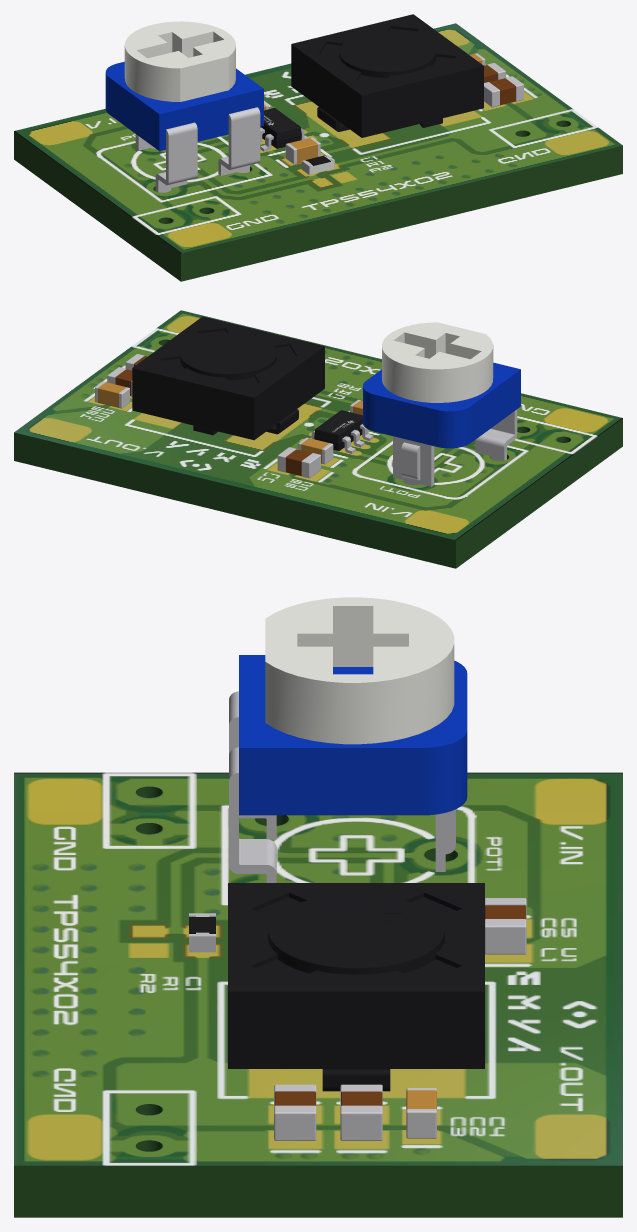
Rendered from eml01-no-headers.glb.
3 renders of one model, top to bottom at view 1: azimuth 30°, elevation 25°; view 2: azimuth 150°, elevation 25°; view 3: azimuth 270°, elevation 25°, orthographic. The views are drawn at different scales.
Visible parts, largest first — view 1: Board:Open CASCADE STEP translator 7.5 3.1.1, POT1: (×4), L1:Cooper Bussman DR73 Series Inductor, U1:body, C1:Open CASCADE STEP translator 6.8 3.2.1, C3:; view 2: Board:Open CASCADE STEP translator 7.5 3.1.1, POT1: (×4), L1:Cooper Bussman DR73 Series Inductor, U1:body, C5: (×2), C4:Open CASCADE STEP translator 6.8 3.2.1; view 3: Board:Open CASCADE STEP translator 7.5 3.1.1, POT1: (×5), L1:Cooper Bussman DR73 Series Inductor, C3:, C2:, C5:, C4:Open CASCADE STEP translator 6.8 3.1.1.
Boxes of the visible parts, x1,y1,x2,y2 form: Board:Open CASCADE STEP translator 7.5 3.1.1: (14,23,622,281); POT1: (×4): (105,21,263,192); L1:Cooper Bussman DR73 Series Inductor: (291,14,483,137); U1:body: (260,108,301,148); C1:Open CASCADE STEP translator 6.8 3.2.1: (289,138,317,163); C3:: (489,78,515,105); Board:Open CASCADE STEP translator 7.5 3.1.1: (14,310,622,568); POT1: (×4): (363,322,520,486); L1:Cooper Bussman DR73 Series Inductor: (132,316,324,440); U1:body: (314,410,362,450); C5: (×2): (285,449,320,478); C4:Open CASCADE STEP translator 6.8 3.2.1: (98,382,126,407); Board:Open CASCADE STEP translator 7.5 3.1.1: (14,772,622,1217); POT1: (×5): (229,597,467,882); L1:Cooper Bussman DR73 Series Inductor: (228,883,484,1091); C3:: (274,1105,316,1140); C2:: (340,1105,382,1140); C5:: (485,919,526,954); C4:Open CASCADE STEP translator 6.8 3.1.1: (406,1109,436,1138).
Bounding box in the file's own units: 0.0275 × 0.0109 × 0.018.
Materials: 14 (2 with a texture image).
